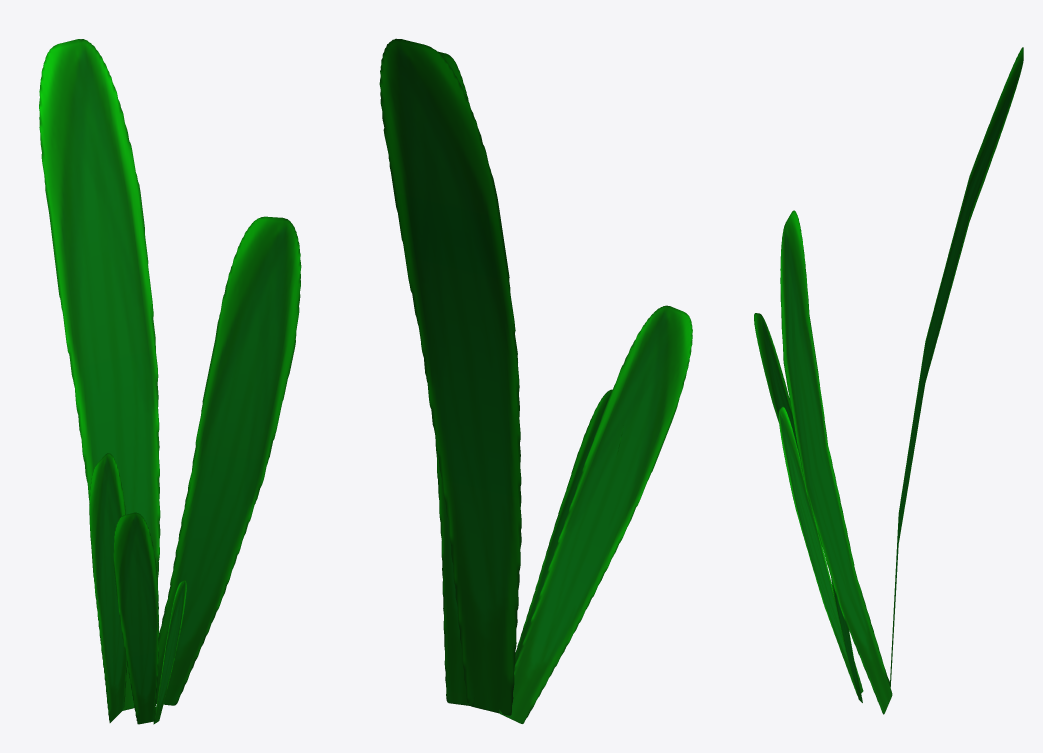
File: 6_Malla_Arbusto.fbx
3 views of the same model, side by side, from view 1: azimuth 30°, elevation 25°; view 2: azimuth 150°, elevation 25°; view 3: azimuth 270°, elevation 25° (orthographic). The views are drawn at different scales.
Parts seen in each view (by area): view 1: Arbustos_Varios1.001; view 2: Arbustos_Varios1.001; view 3: Arbustos_Varios1.001.
Boxes of the visible parts, left/top/right/bottom form: Arbustos_Varios1.001: left=39, top=39, right=301, bottom=724; Arbustos_Varios1.001: left=379, top=38, right=692, bottom=723; Arbustos_Varios1.001: left=754, top=47, right=1023, bottom=714.
Bounding box in the file's own units: 38.97 × 95.2 × 36.74.
